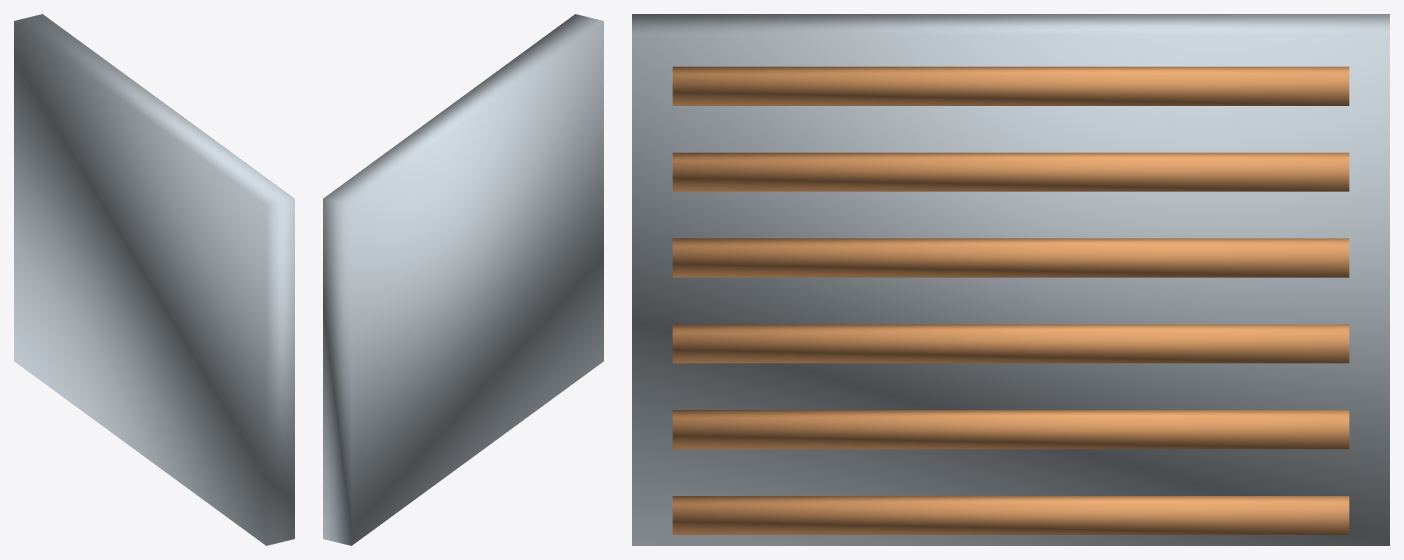
Rendered from 49_L86_RadiatorThermalInterfacePlate.glb.
The picture shows the model from 3 angles, left to right: view 1: azimuth 30°, elevation 25°; view 2: azimuth 150°, elevation 25°; view 3: azimuth 270°, elevation 25°; orthographic projection. The views are drawn at different scales.
Parts seen in each view (by area): view 1: L86_RadiatorThermalInterfaceP_Part_0000; view 2: L86_RadiatorThermalInterfaceP_Part_0000; view 3: L86_RadiatorThermalInterfaceP_Part_0000, L86_RadiatorThermalInterfaceP_Part_0001.
Boxes of the visible parts, x1,y1,x2,y2 form: L86_RadiatorThermalInterfaceP_Part_0000: (14, 14, 294, 545); L86_RadiatorThermalInterfaceP_Part_0000: (323, 14, 603, 545); L86_RadiatorThermalInterfaceP_Part_0000: (632, 14, 1389, 545); L86_RadiatorThermalInterfaceP_Part_0001: (672, 66, 1349, 534).
Bounding box in the file's own units: 0.31 × 2.5 × 3.36.
